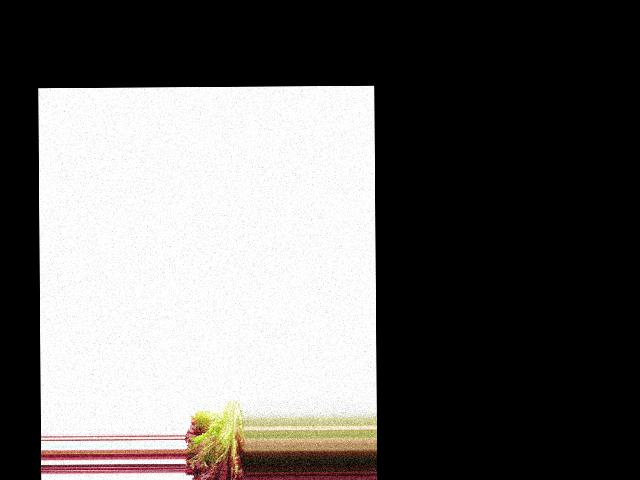lettuce: (186, 396, 245, 480)
